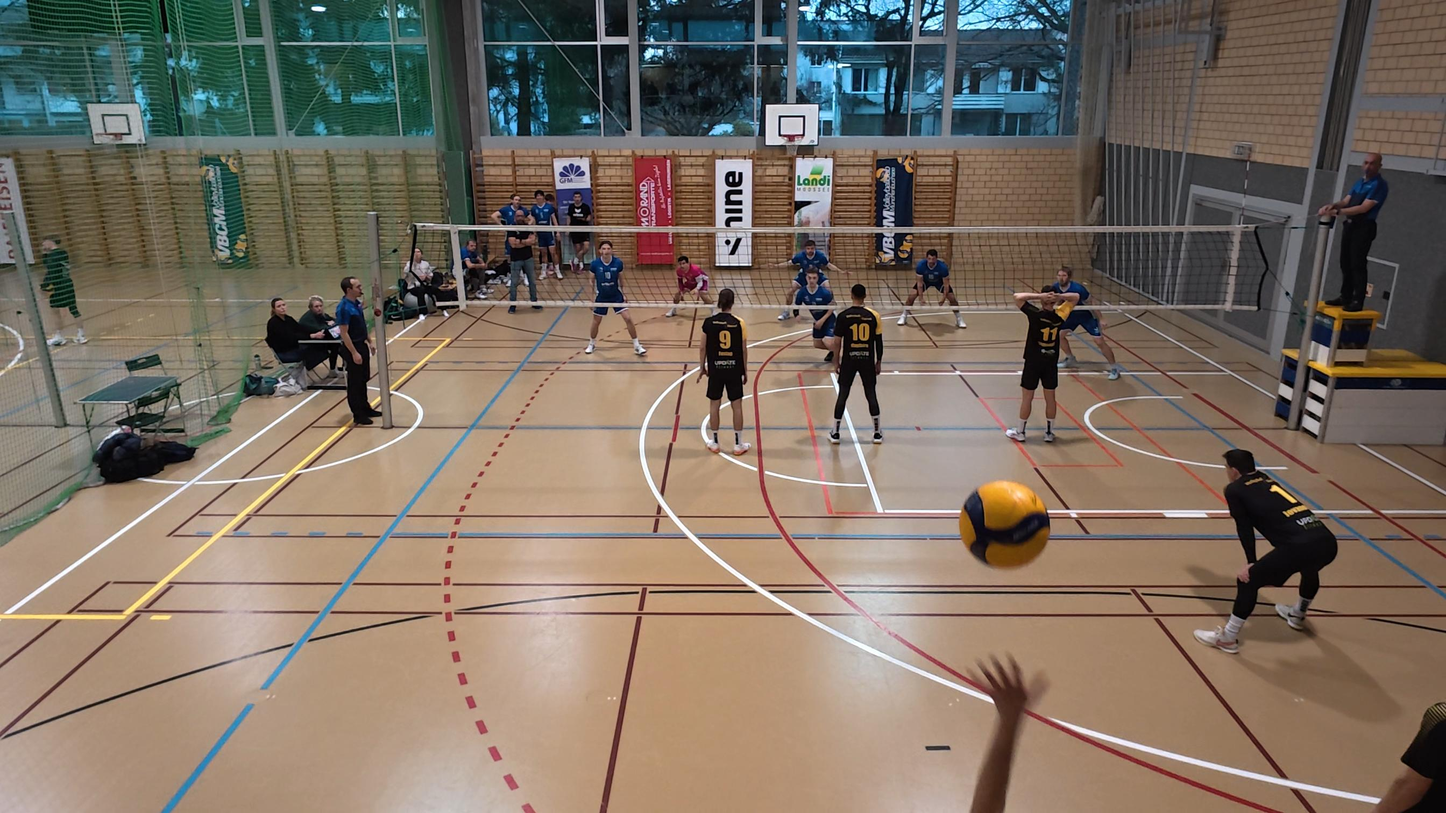Player: (1195, 449, 1339, 653), (1007, 285, 1075, 443), (825, 283, 884, 444), (699, 287, 750, 454), (1050, 266, 1121, 380), (1371, 703, 1445, 812), (583, 239, 647, 355), (897, 248, 966, 329), (778, 236, 832, 320), (800, 269, 838, 362), (663, 254, 711, 322)
Serve: (961, 651, 1052, 811)
ball: (958, 479, 1052, 569)
